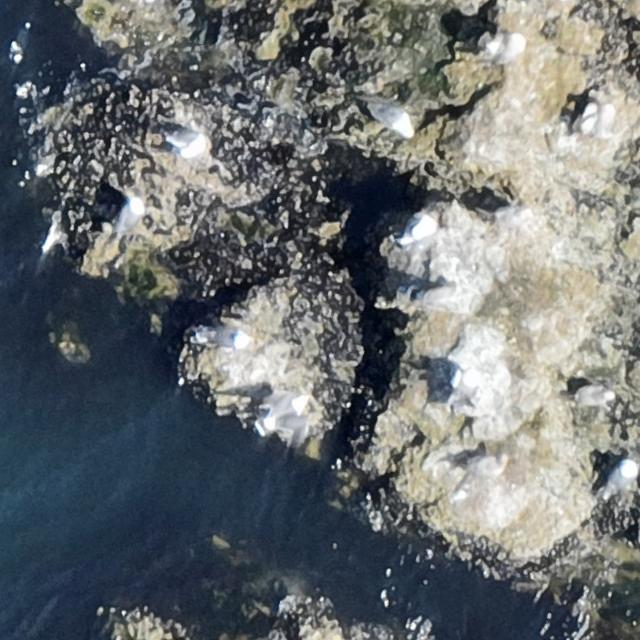umineko: (362, 95, 416, 139), (202, 320, 256, 354), (442, 371, 483, 414), (158, 125, 214, 154), (259, 398, 306, 432), (115, 196, 150, 239), (605, 458, 640, 498)
